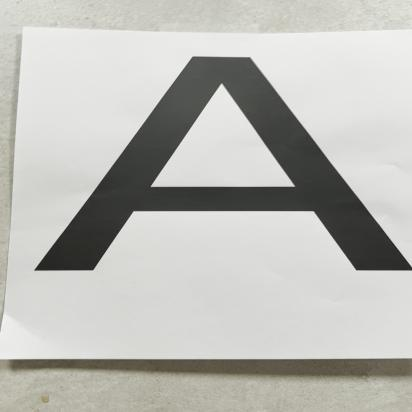seat: (12, 37, 412, 288)
